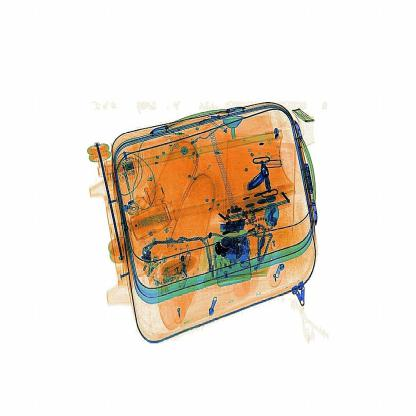knife: (237, 163, 280, 198)
